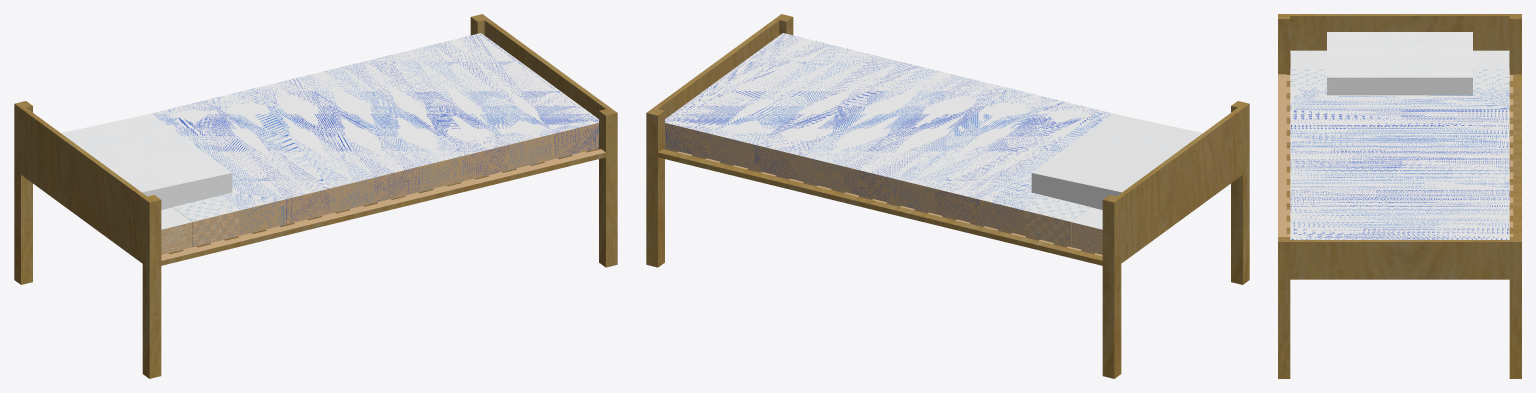
File: lit.dae
The picture shows the model from 3 angles, left to right: view 1: azimuth 30°, elevation 25°; view 2: azimuth 150°, elevation 25°; view 3: azimuth 270°, elevation 25°; orthographic projection. The views are drawn at different scales.
Visible parts, largest first — view 1: lit_une_personne_avec_lingerie_garçon (×20); view 2: lit_une_personne_avec_lingerie_garçon (×20); view 3: lit_une_personne_avec_lingerie_garçon (×13).
Boxes of the visible parts, x1=… form: lit_une_personne_avec_lingerie_garçon (×20): x1=14, y1=14, x2=617, y2=378; lit_une_personne_avec_lingerie_garçon (×20): x1=646, y1=14, x2=1249, y2=378; lit_une_personne_avec_lingerie_garçon (×13): x1=1278, y1=14, x2=1521, y2=378.
Bounding box in the file's own units: 78.74 × 39.37 × 28.35.
9 materials, 1 textured.
